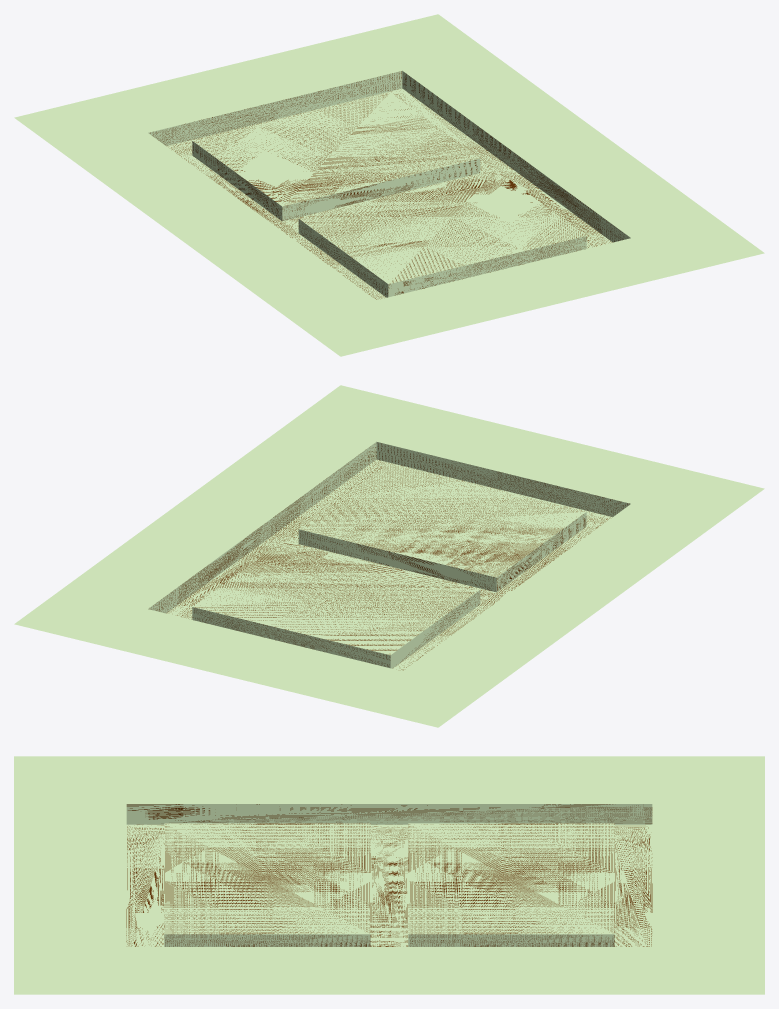
Rendered from ExcavationDone.dae.
The picture shows the model from 3 angles, top to bottom: view 1: azimuth 30°, elevation 25°; view 2: azimuth 150°, elevation 25°; view 3: azimuth 270°, elevation 25°; orthographic projection. The views are drawn at different scales.
Parts seen in each view (by area): view 1: group_0 (×4); view 2: group_0 (×4); view 3: group_0 (×4).
Boxes of the visible parts, x1,y1,x2,y2 form: group_0 (×4): (14, 14, 764, 356); group_0 (×4): (14, 385, 764, 727); group_0 (×4): (14, 756, 764, 994).
Size of the model in its own units: 591 by 787 by 23.62.
